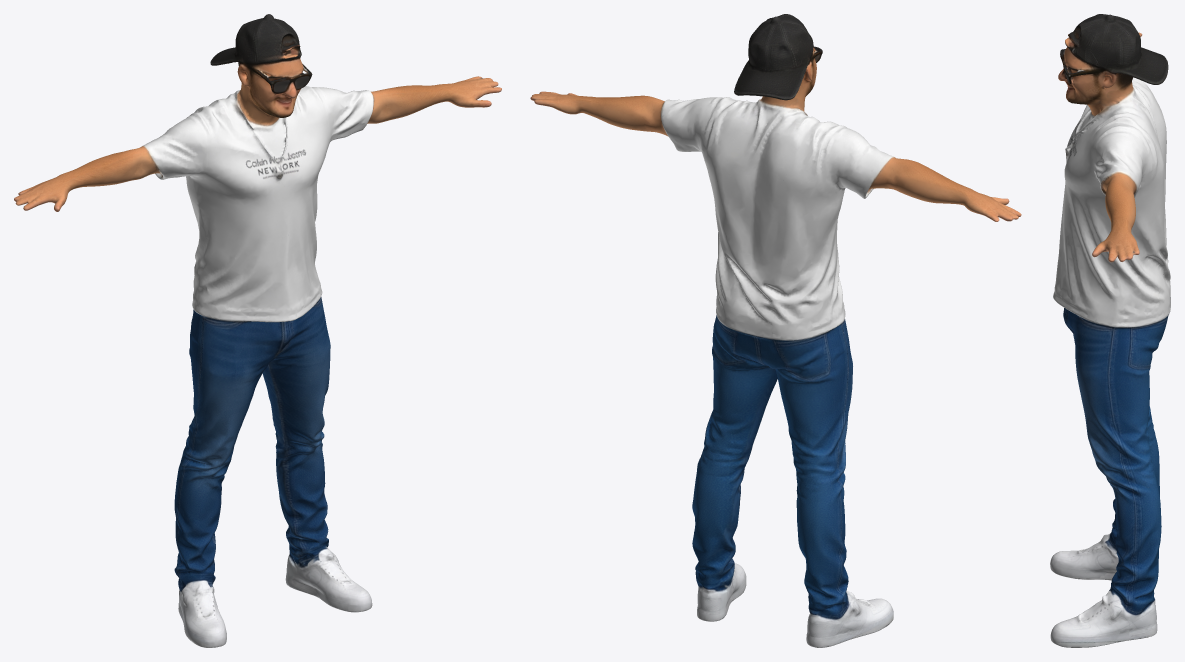
File: Meshy_AI_Green_Screen_T_Pose_Man_20261021_texture.fbx
3 views of the same model, side by side, from view 1: azimuth 30°, elevation 25°; view 2: azimuth 150°, elevation 25°; view 3: azimuth 270°, elevation 25° (orthographic).
Parts seen in each view (by area): view 1: Mesh_0; view 2: Mesh_0; view 3: Mesh_0.
Boxes of the visible parts, left/top/right/bottom form: Mesh_0: left=14, top=14, right=501, bottom=647; Mesh_0: left=530, top=14, right=1021, bottom=647; Mesh_0: left=1050, top=14, right=1170, bottom=647.
Size of the model in its own units: 162 by 190 by 35.05.
1 material, 1 textured.
